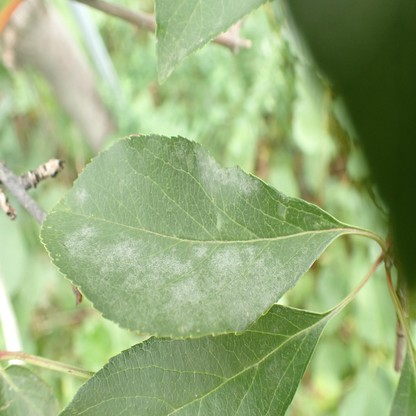powdery_mildew: (65, 224, 309, 335), (193, 143, 259, 198), (269, 360, 290, 392), (174, 142, 186, 161), (76, 187, 85, 208), (178, 46, 186, 63), (216, 214, 223, 231)
